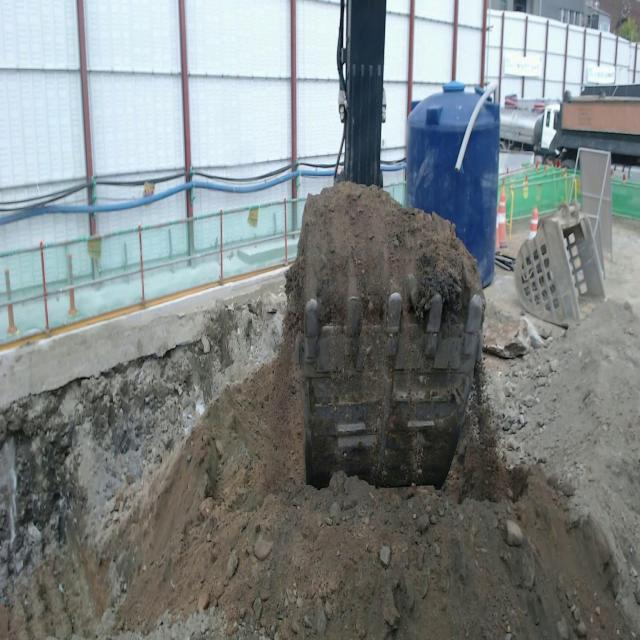white-sand: (0, 228, 640, 639), (285, 183, 482, 331)
